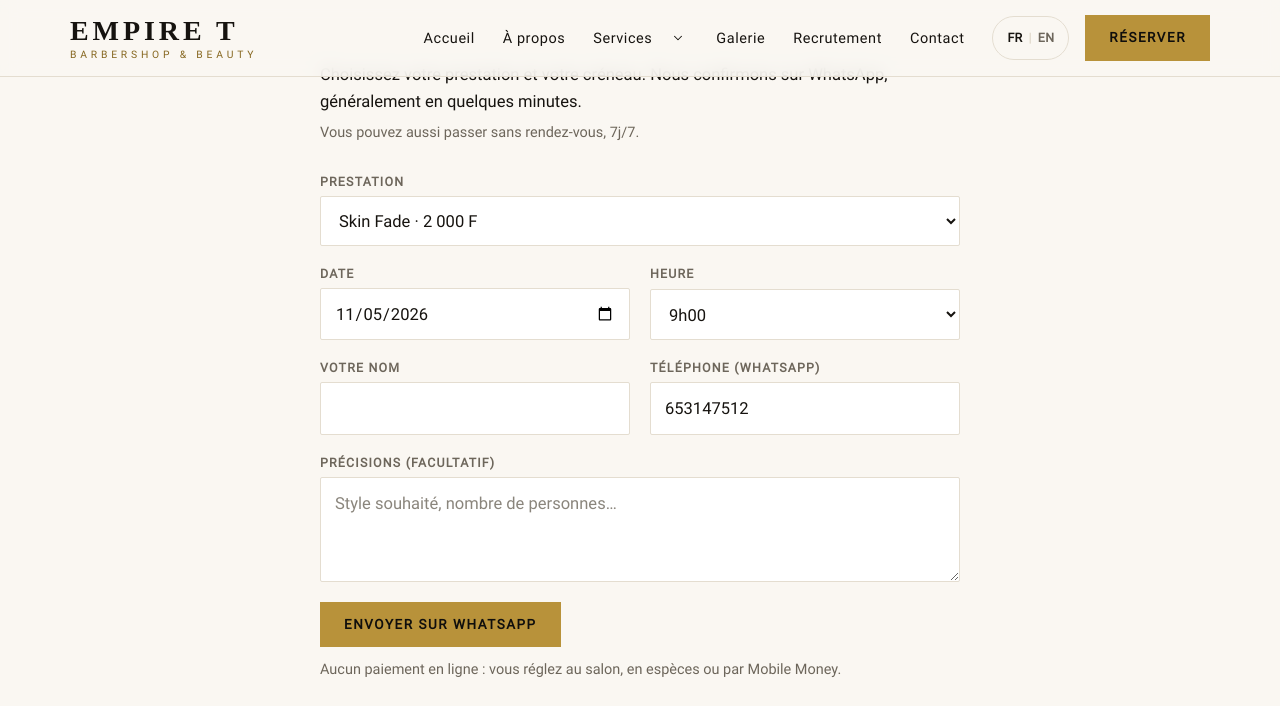
Test: booking page › shows the API's refusal next to the field it concerns
(page scrolled)
Type "Awa" into the field labelled "Votre nom" at coordinates (475, 409), box [320, 382, 630, 435]
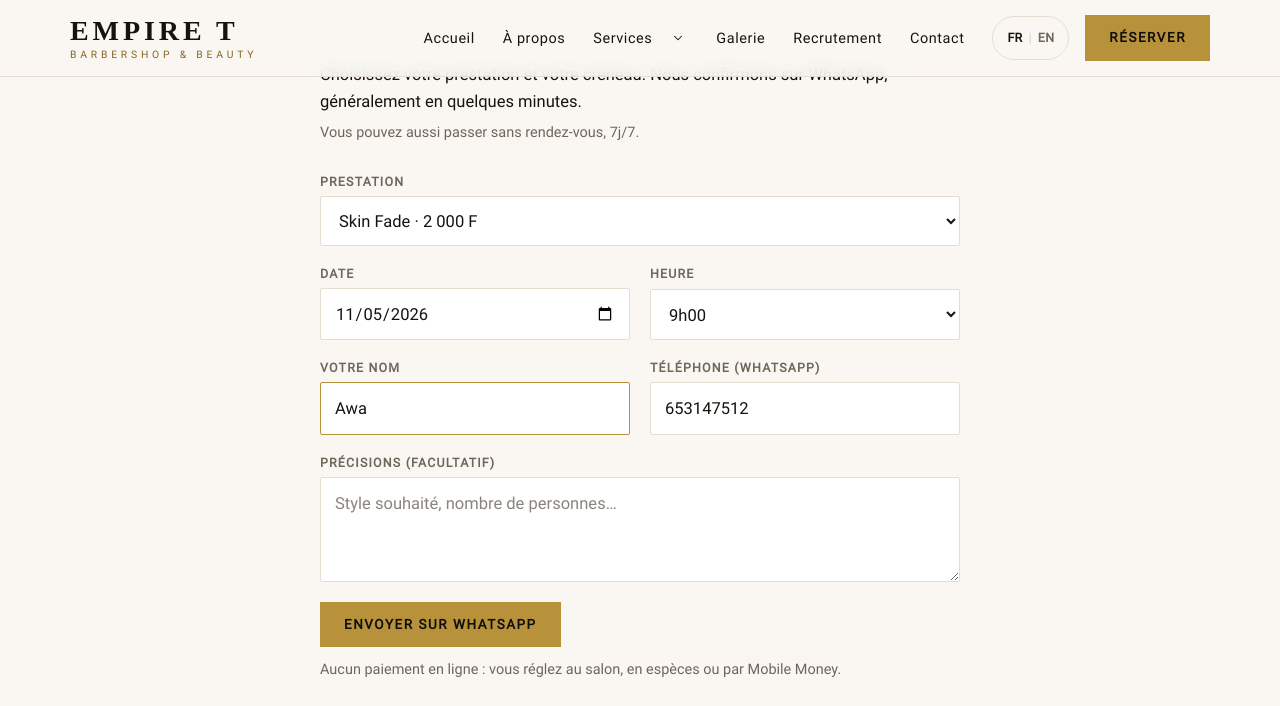
expect the dropdown labelled "Heure" shows "9h00": met, box [650, 289, 960, 340]
Click the button "Envoyer sur WhatsApp" at coordinates (440, 625), box [320, 602, 561, 647]
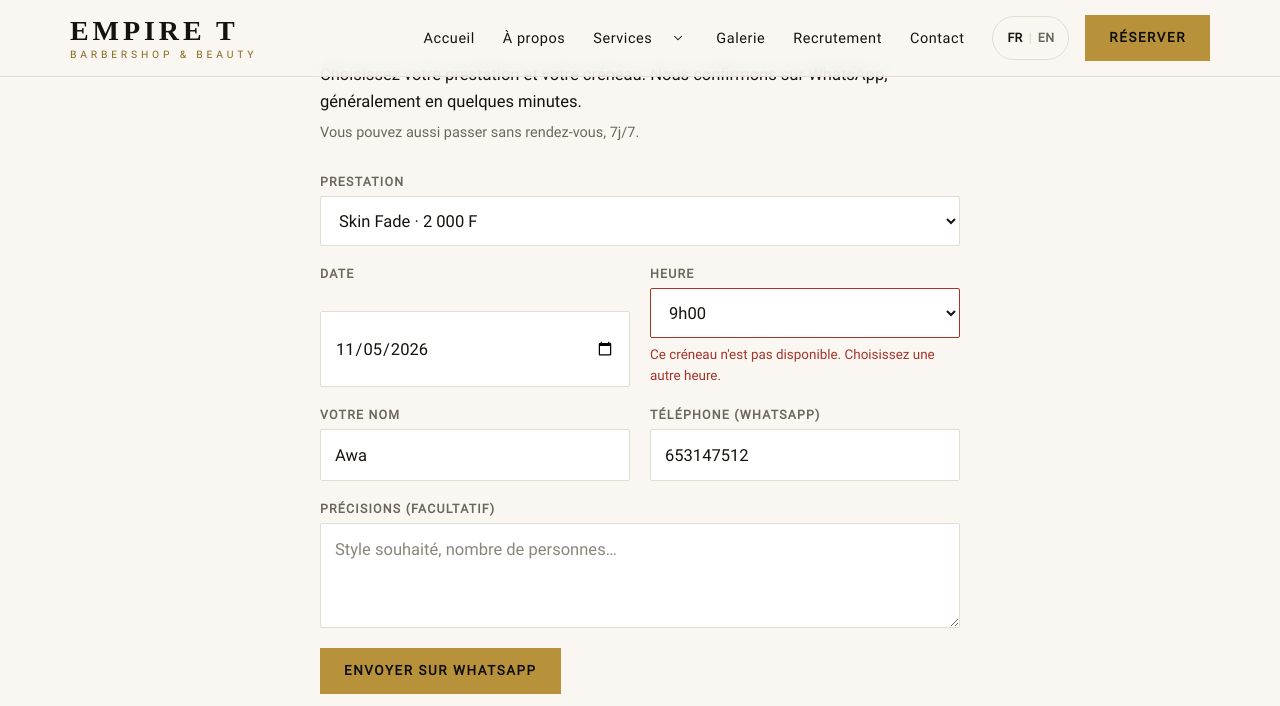
expect the text "Ce créneau n'est pas disponible. Choisissez une autre heure." is shown: met, box [650, 344, 960, 387]
